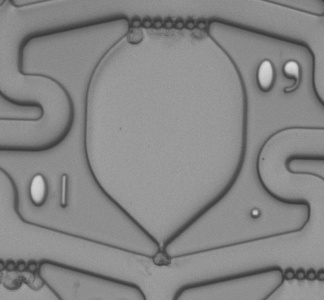AptNum: (250, 51, 306, 101)
Marker: (244, 202, 267, 224)
StNum: (27, 166, 78, 214)
Trap: (138, 247, 187, 290)
